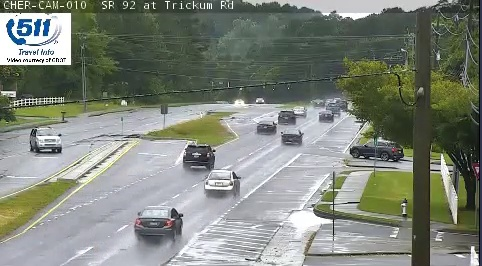car: (134, 207, 183, 237), (204, 169, 240, 192), (182, 145, 215, 165), (281, 128, 303, 143), (256, 121, 276, 133), (277, 110, 295, 123), (318, 109, 334, 122), (291, 106, 307, 117)
